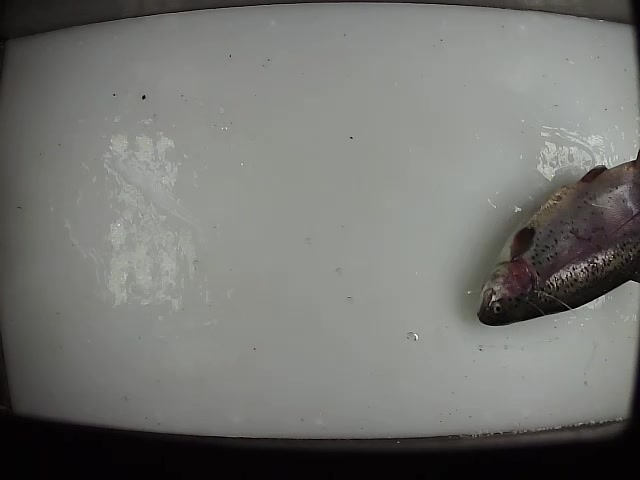fish: (475, 153, 640, 328)
